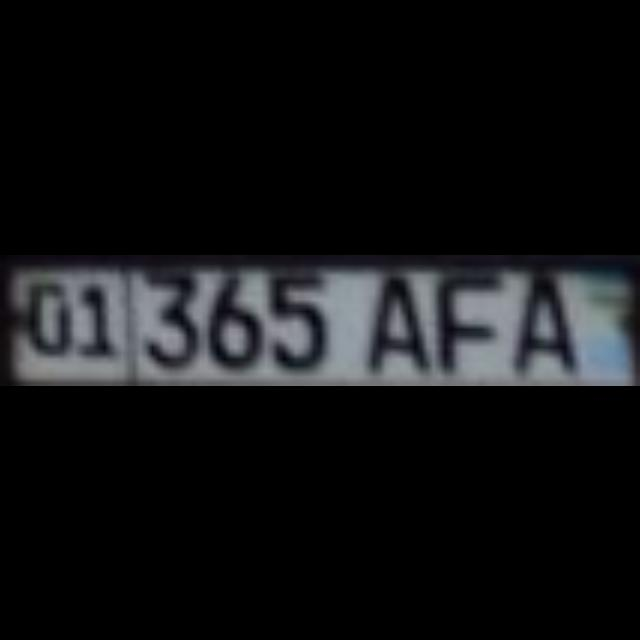0: (24, 272, 66, 350)
1: (72, 272, 114, 344)
3: (143, 266, 191, 362)
5: (263, 266, 323, 362)
6: (203, 266, 257, 362)
A: (508, 260, 574, 368), (359, 266, 425, 362)
F: (431, 266, 497, 368)
